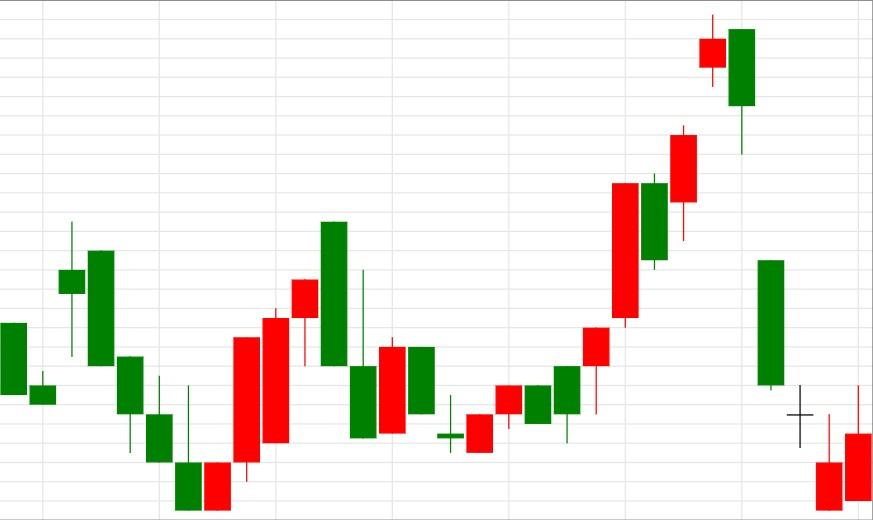bearish_engulfing_fall: (174, 221, 348, 511)
